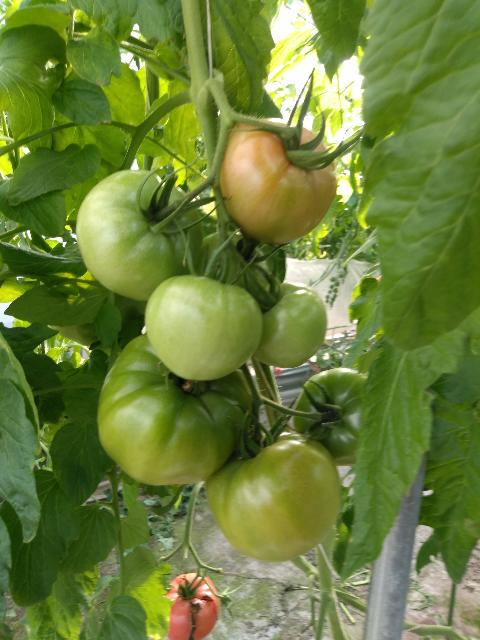b_fully_ripened: (163, 572, 219, 640)
b_green: (97, 333, 254, 486), (206, 429, 342, 562), (76, 170, 204, 302), (145, 275, 262, 381), (294, 367, 366, 467), (252, 282, 328, 368), (194, 231, 268, 299)
b_half_ripened: (218, 117, 337, 245)
